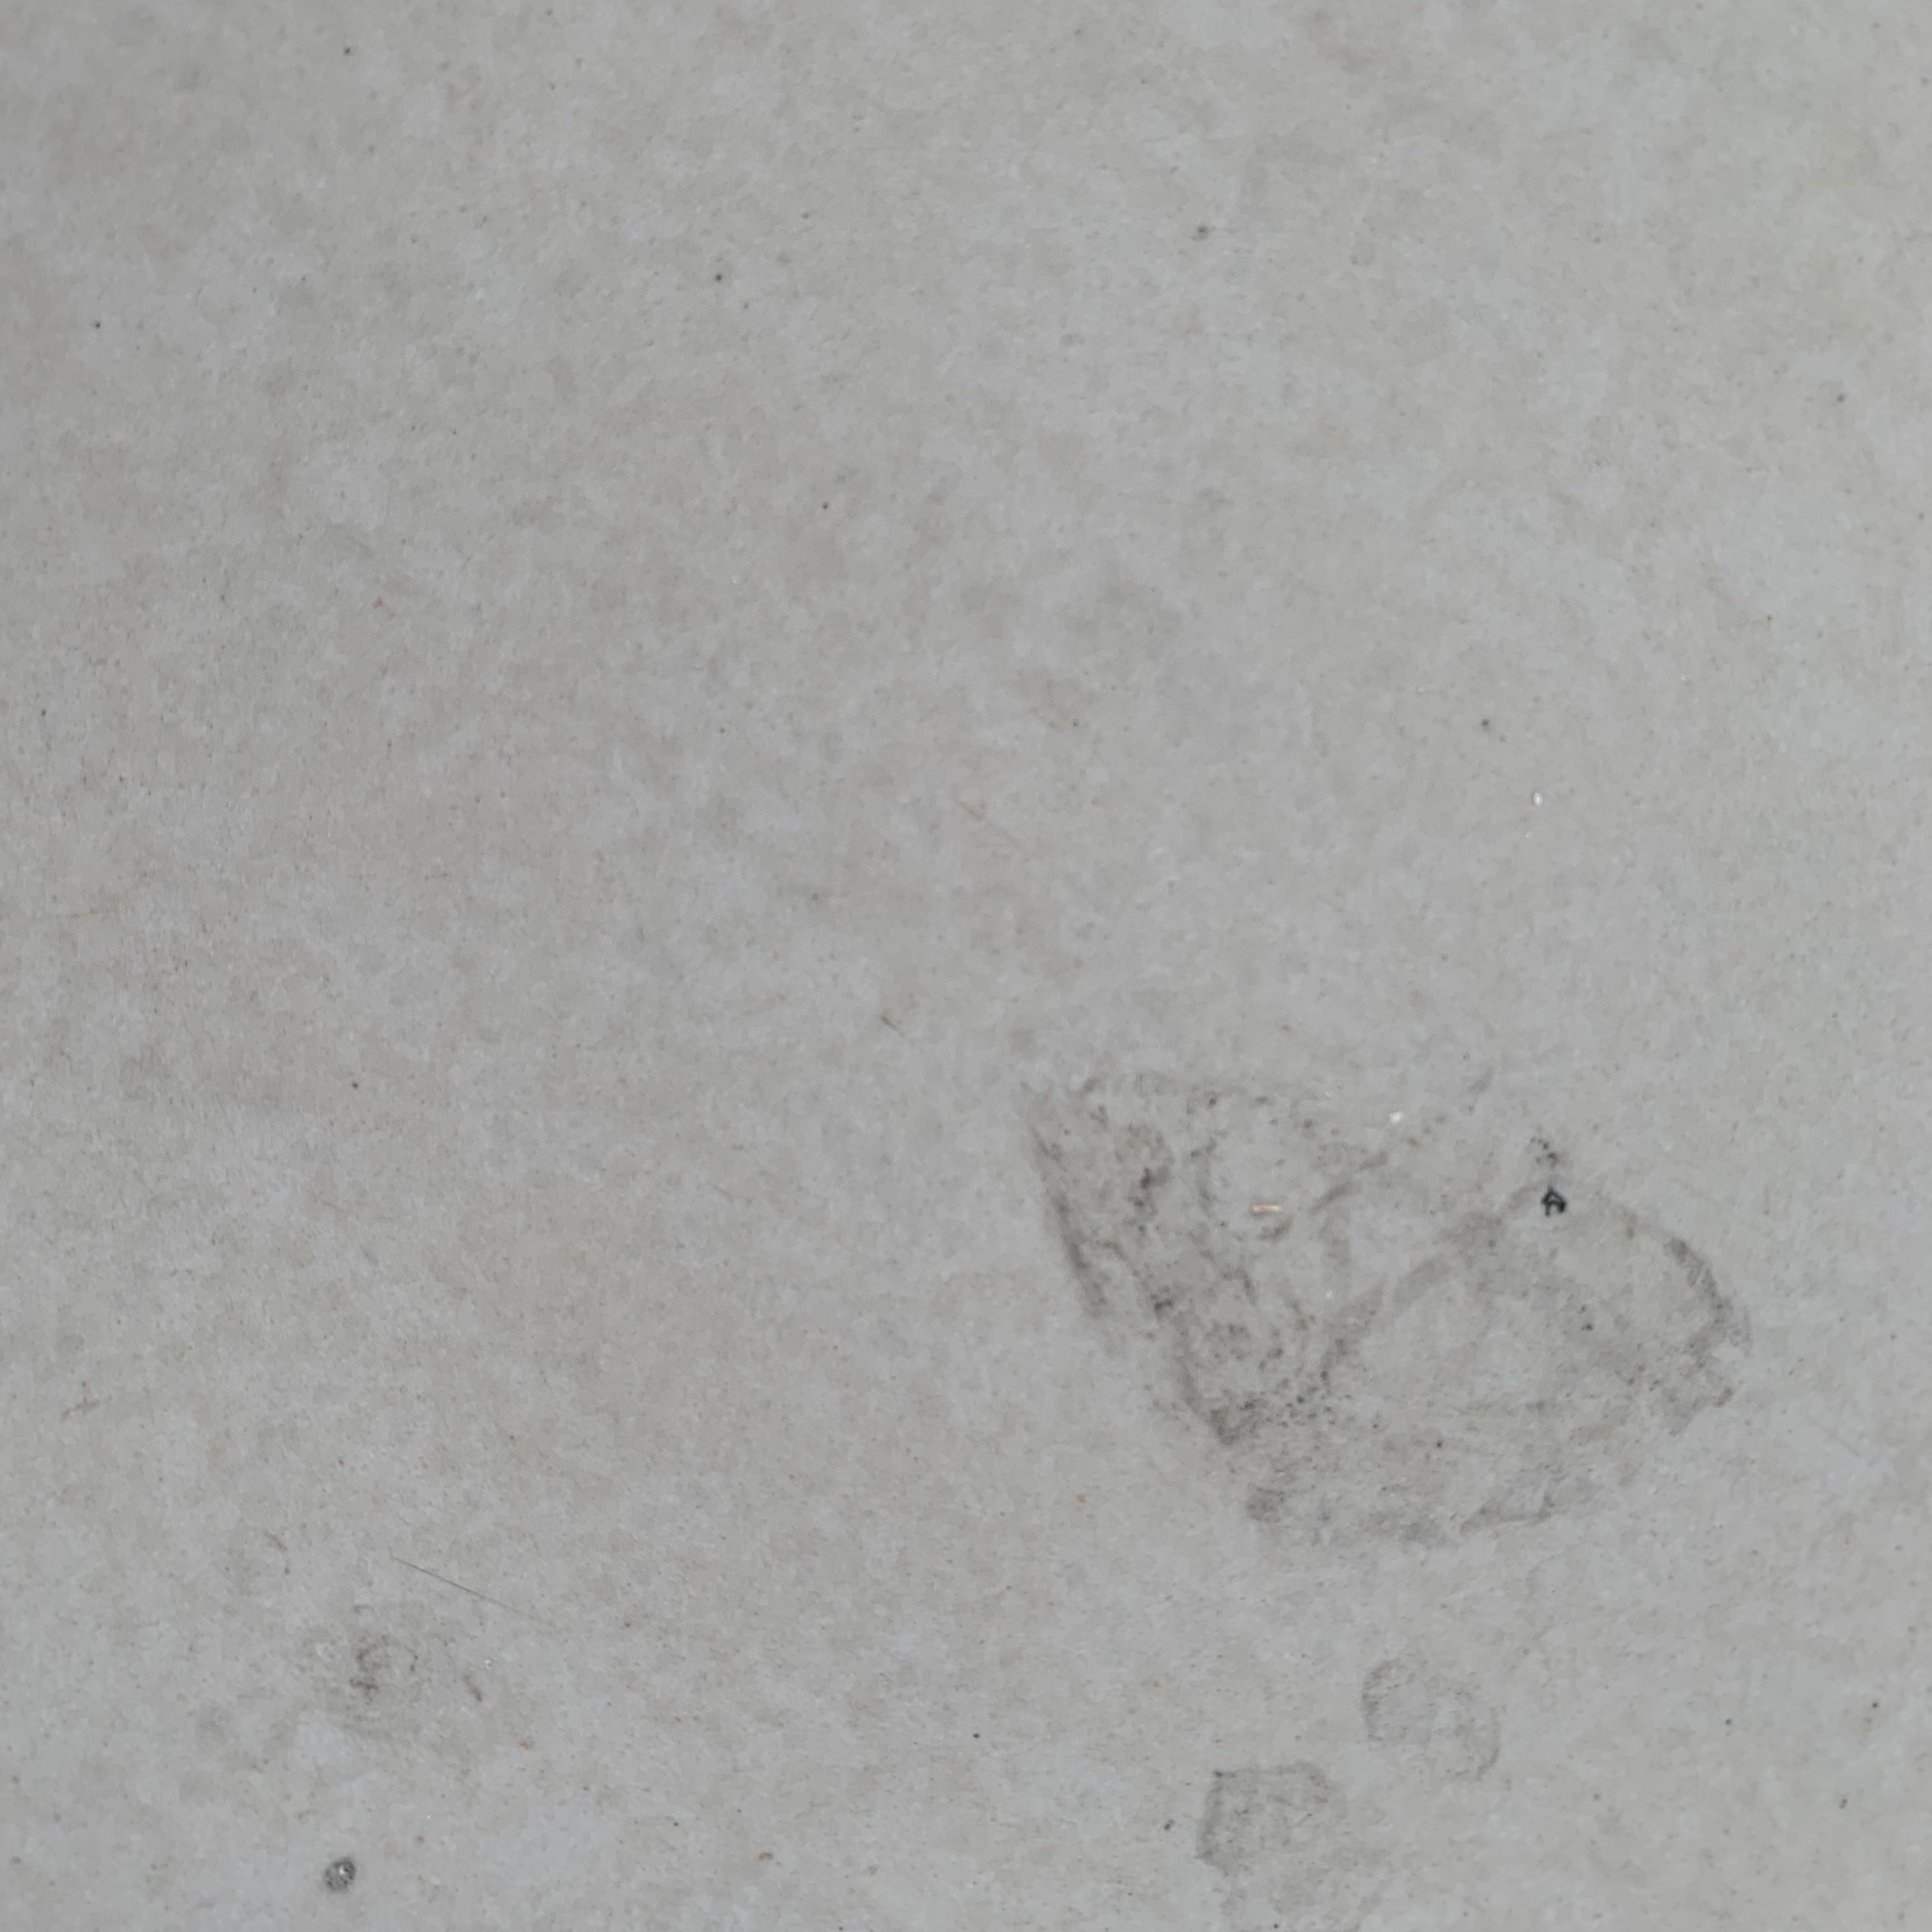grey spot: (1019, 1070, 1755, 1550), (1200, 1769, 1380, 1932), (1359, 1656, 1500, 1778), (322, 1858, 357, 1888)
